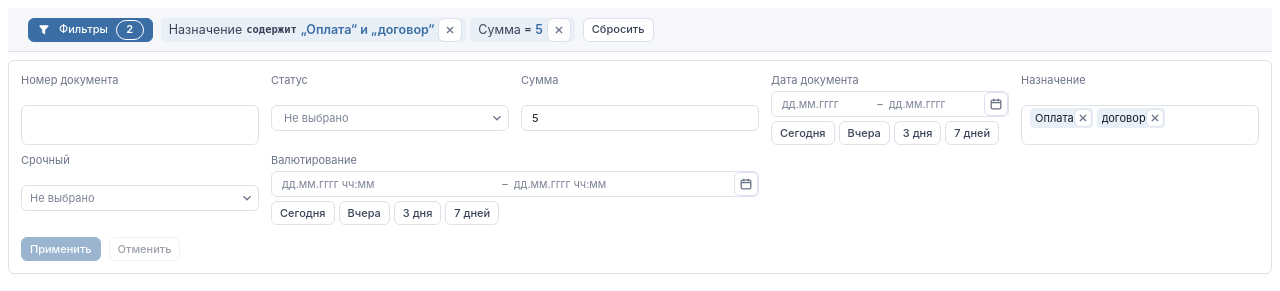
Test case: FilterPanel › несколько условий поля — один чип, счётчик по полям; ✕ снимает все условия поля
Expected: the button "Фильтры 2" is shown, [28,18,153,42]
Click the button named "Убрать условие: Назначение содержит „Оплата“ и „договор“".
click(450, 30)  # box [438,18,462,42]
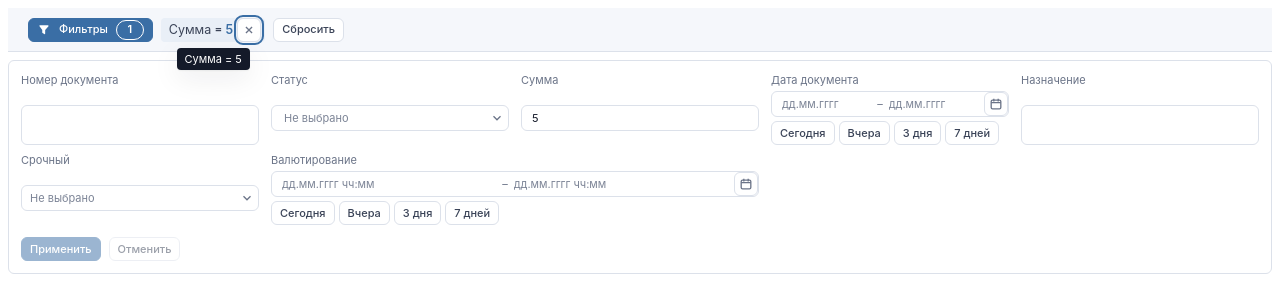
Expected: the field labelled "Назначение" is empty, [1030,108,1250,128]
Now the list item "Назначение содержит „Оплата“ и „договор“" is gone
